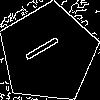I: (23, 28, 69, 64)
